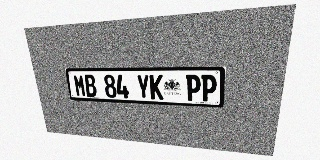4: (115, 75, 129, 98)
8: (103, 75, 117, 98)
B: (84, 75, 97, 97)
K: (149, 75, 163, 100)
M: (73, 75, 86, 97)
P: (201, 75, 217, 102), (186, 75, 201, 101)
Y: (136, 75, 150, 99)
